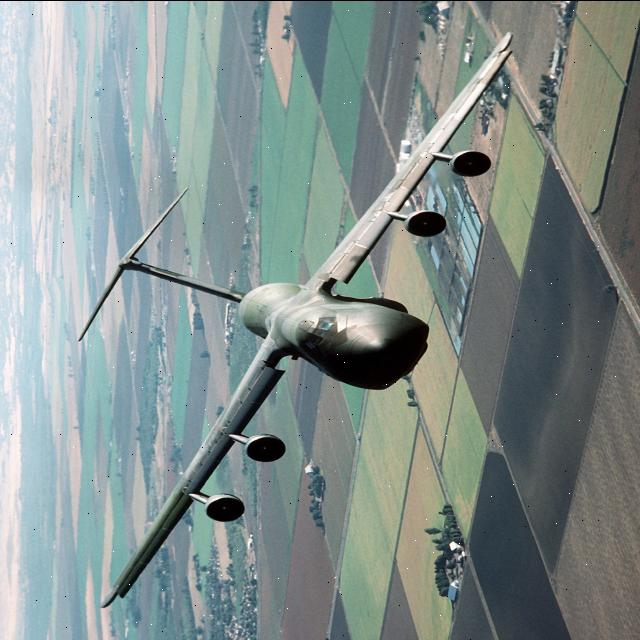C5: (60, 26, 590, 640)
